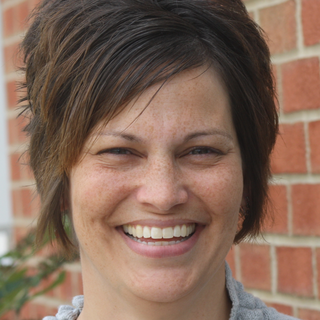eye: (96, 142, 147, 165), (178, 142, 226, 162)
